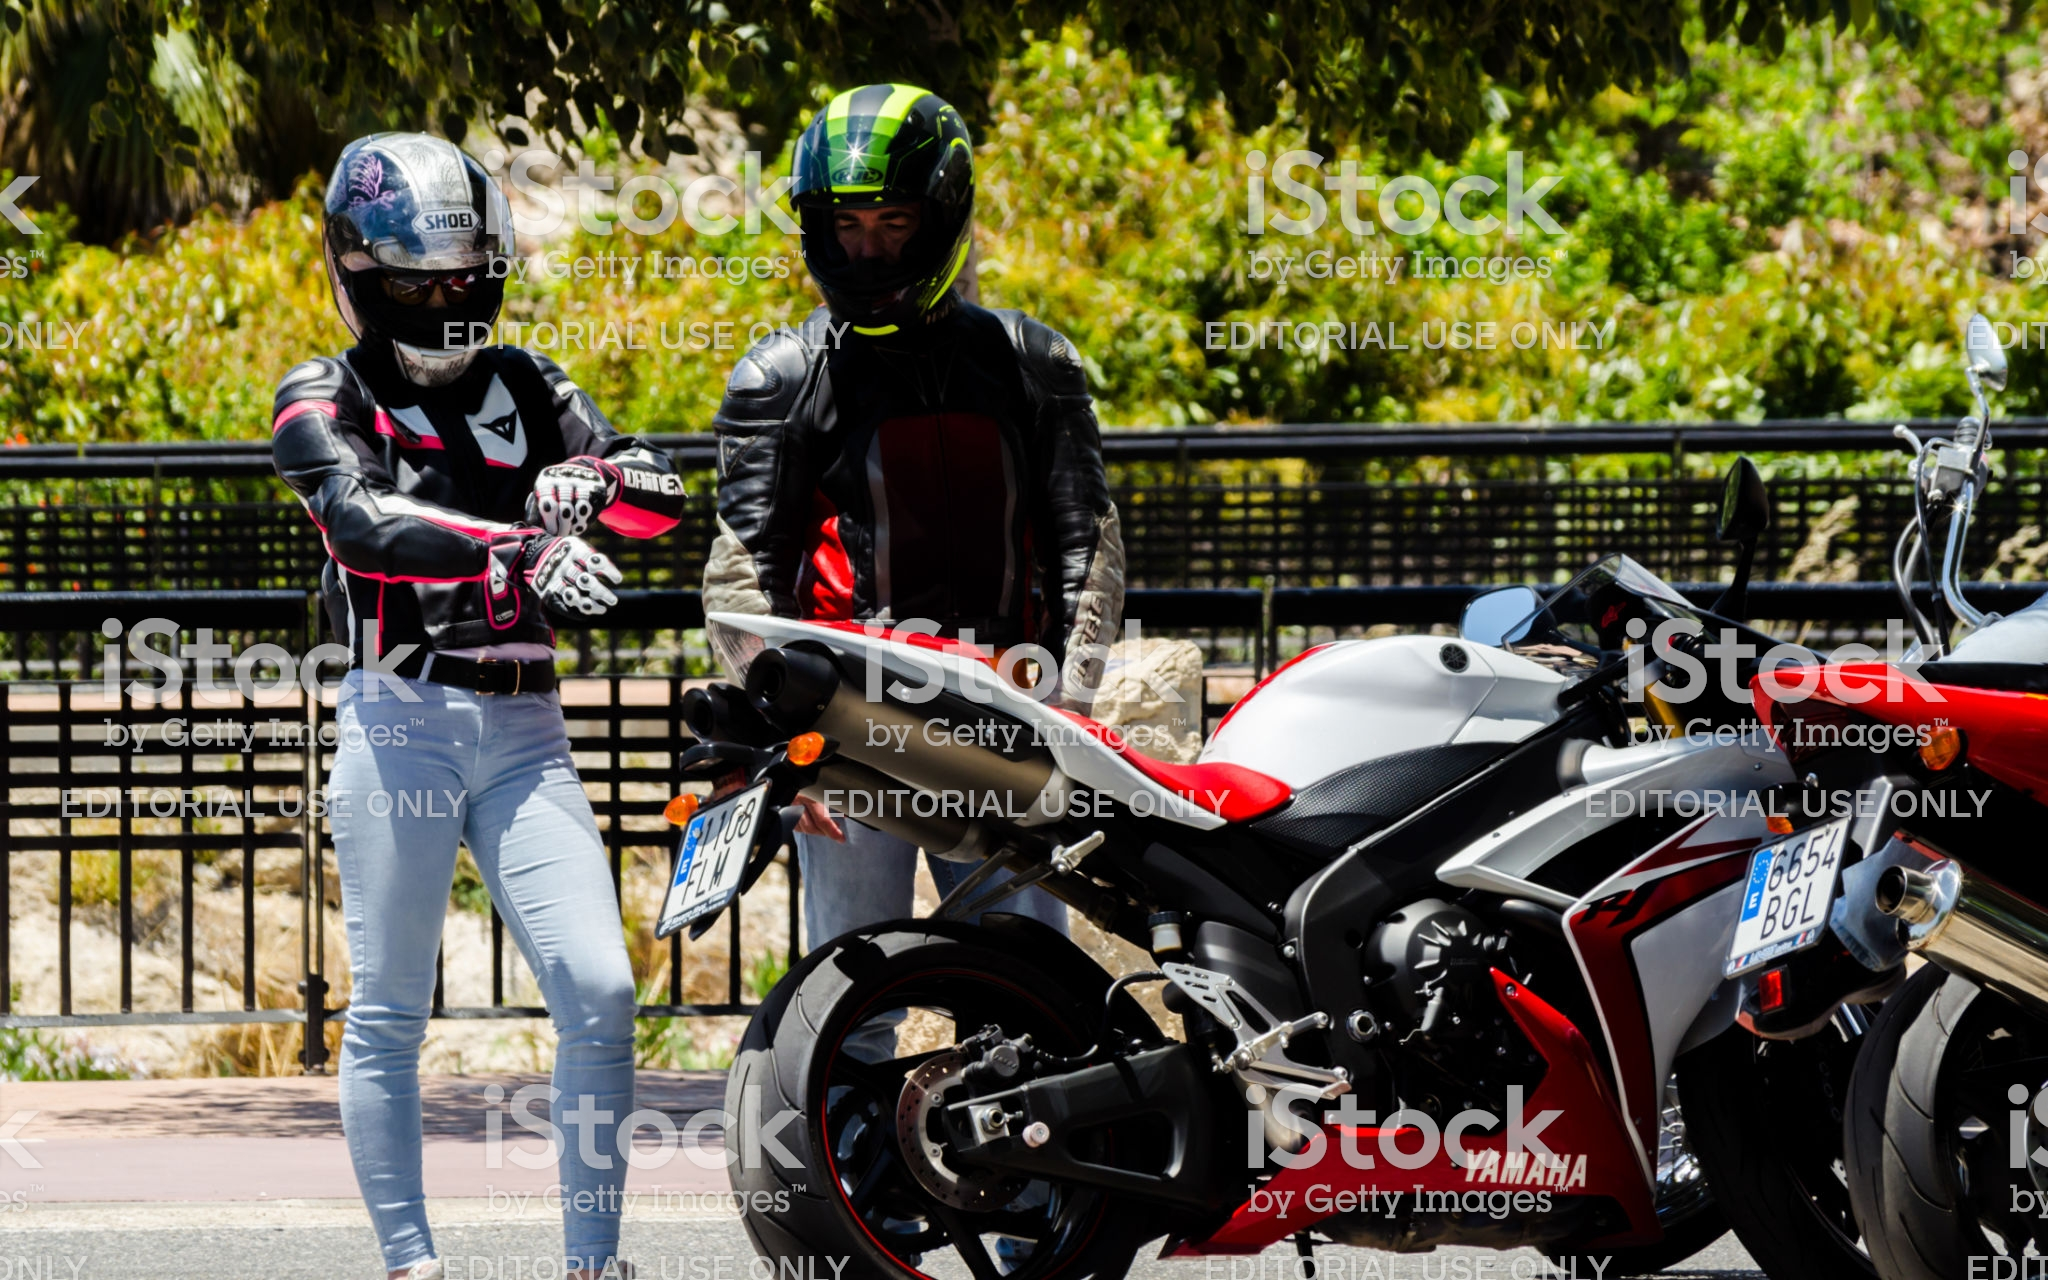helmet: (784, 86, 1039, 349), (282, 139, 532, 355)
